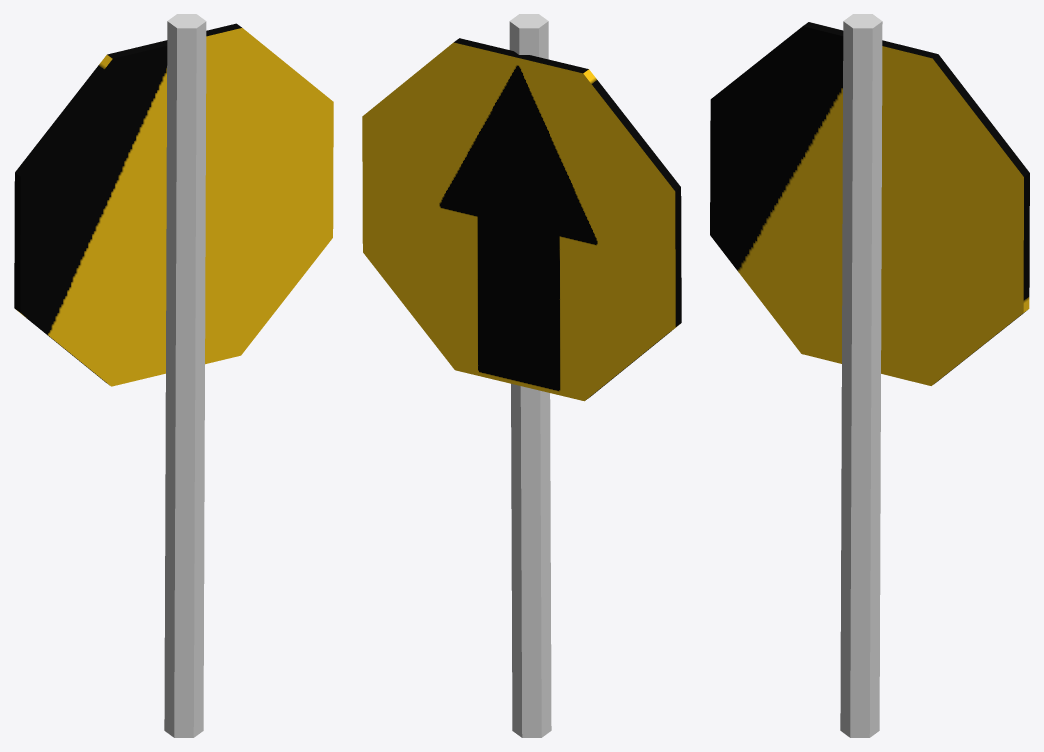
Rendered from straightAheadSign.fbx.
3 views of the same model, side by side, from view 1: azimuth 30°, elevation 25°; view 2: azimuth 150°, elevation 25°; view 3: azimuth 330°, elevation 25° (orthographic).
Parts seen in each view (by area): view 1: StopSign, Post; view 2: StopSign, Post; view 3: StopSign, Post.
Boxes of the visible parts, <box> form: StopSign: <box>14,23,333,386</box>; Post: <box>164,14,206,737</box>; StopSign: <box>362,38,681,401</box>; Post: <box>509,14,551,737</box>; StopSign: <box>710,22,1029,385</box>; Post: <box>840,14,882,737</box>.
Bounding box in the file's own units: 92.55 × 200 × 11.61.
